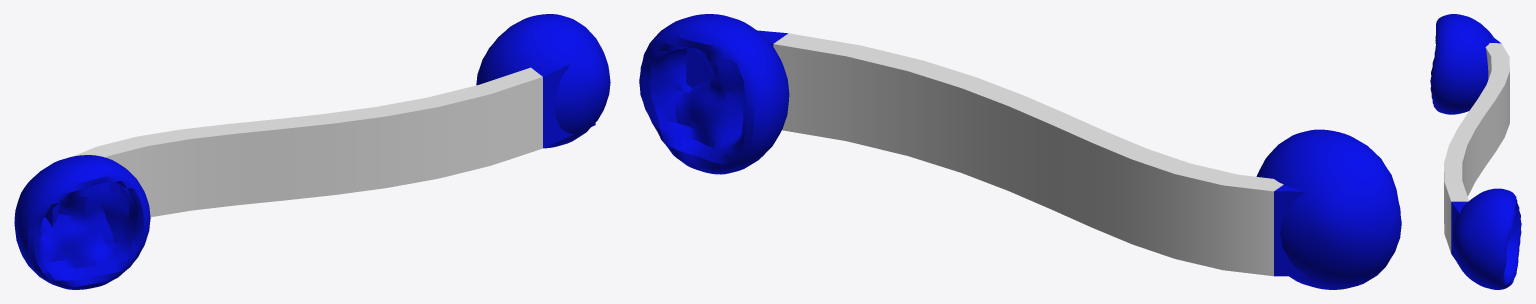
Rendered from bVetroGenLopast.glb.
3 views of the same model, side by side, from view 1: azimuth 30°, elevation 25°; view 2: azimuth 150°, elevation 25°; view 3: azimuth 270°, elevation 25° (orthographic). The views are drawn at different scales.
Parts seen in each view (by area): view 1: Sphere; view 2: Sphere; view 3: Sphere.
Boxes of the visible parts, bbox=[...] form: Sphere: bbox=[14, 14, 610, 289]; Sphere: bbox=[639, 14, 1401, 289]; Sphere: bbox=[1430, 14, 1521, 289].
Size of the model in its own units: 7.66 by 1.5 by 1.36.
